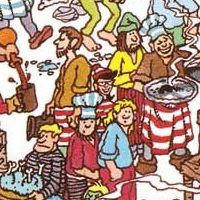wenda: (94, 67, 117, 99)
